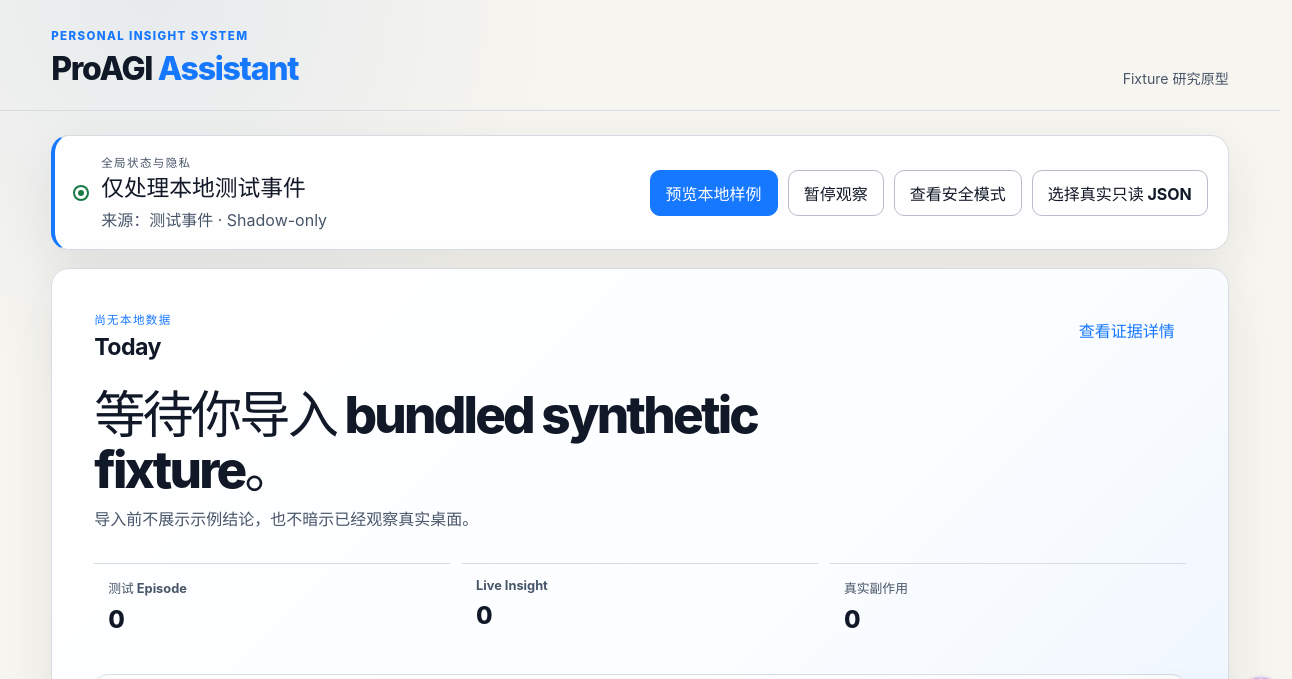
Test: runnable Insight Loop UI › opens mandatory recovery after an indeterminate correction failure
Click the button "预览本地样例": [714, 192] box top-left (650, 170), bottom-right (778, 216)
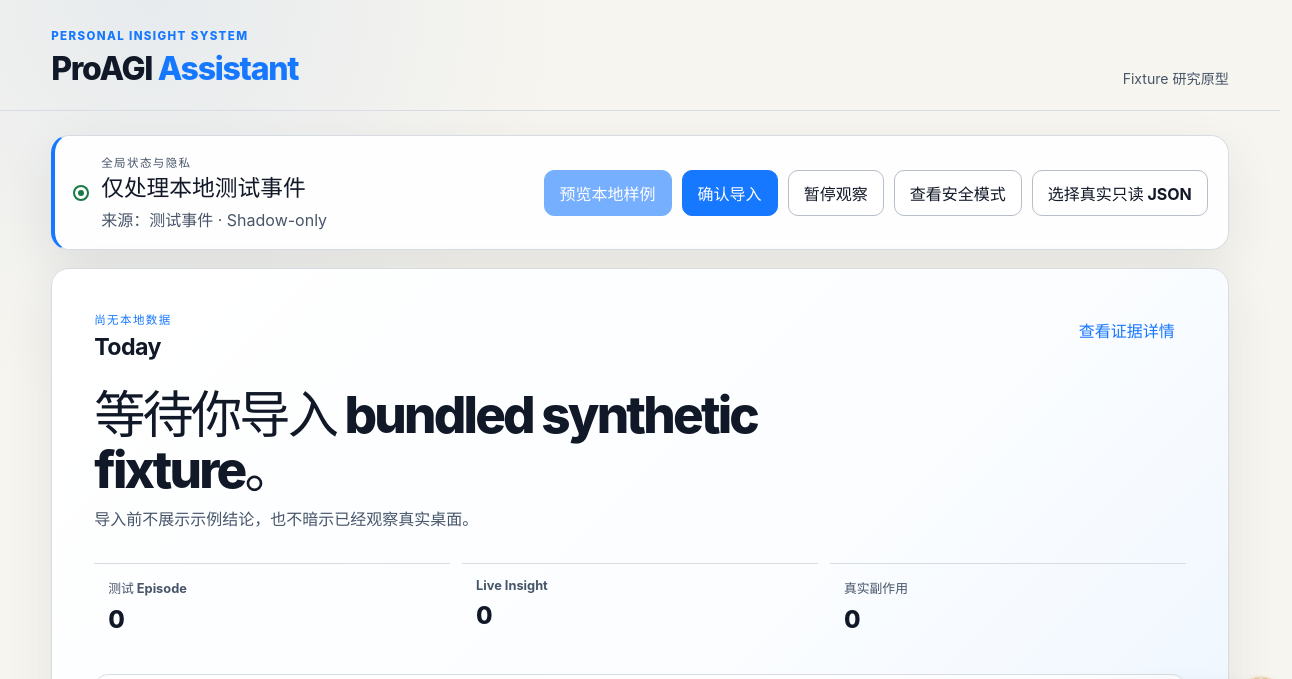
Now the button "确认导入" is shown
Click the button "确认导入": [730, 192] box top-left (682, 170), bottom-right (778, 216)
(page scrolled)
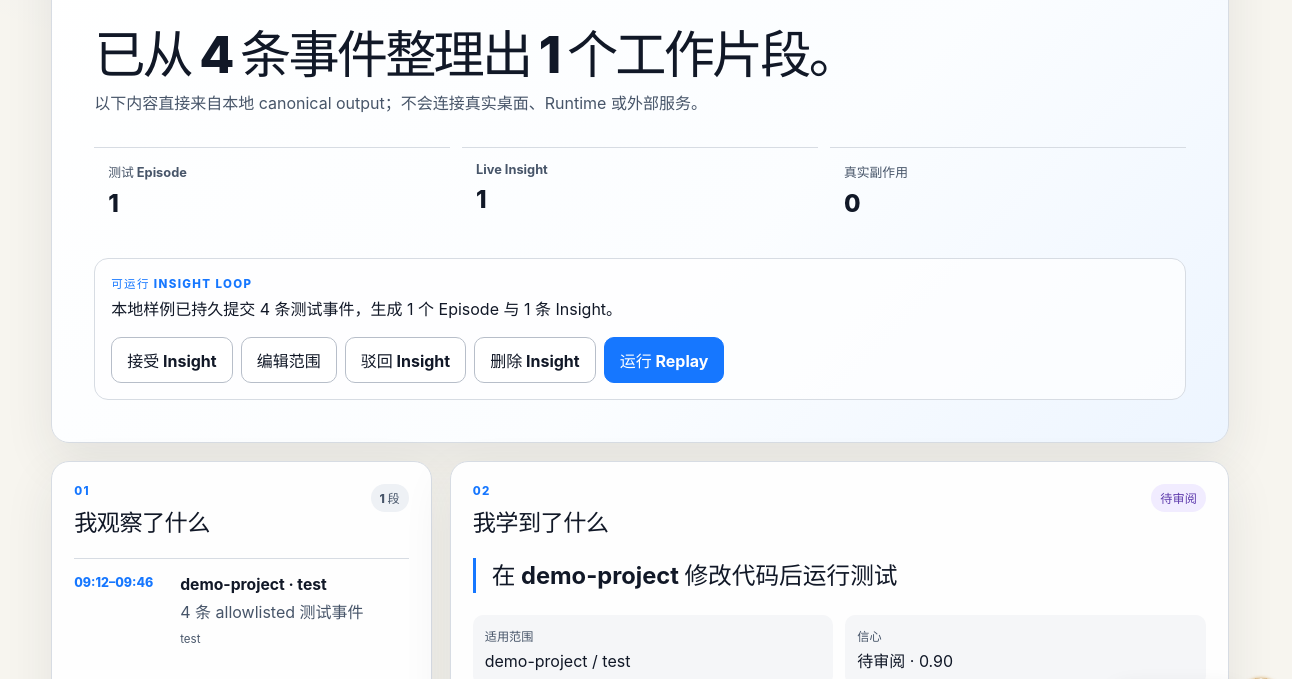
Now the text "本地样例已持久提交 4 条测试事件，生成 1 个 Episode 与 1 条 Insight。" is shown, box top-left (111, 299), bottom-right (622, 319)
Click the button "接受 Insight": [172, 360] box top-left (111, 337), bottom-right (233, 383)
(page scrolled)
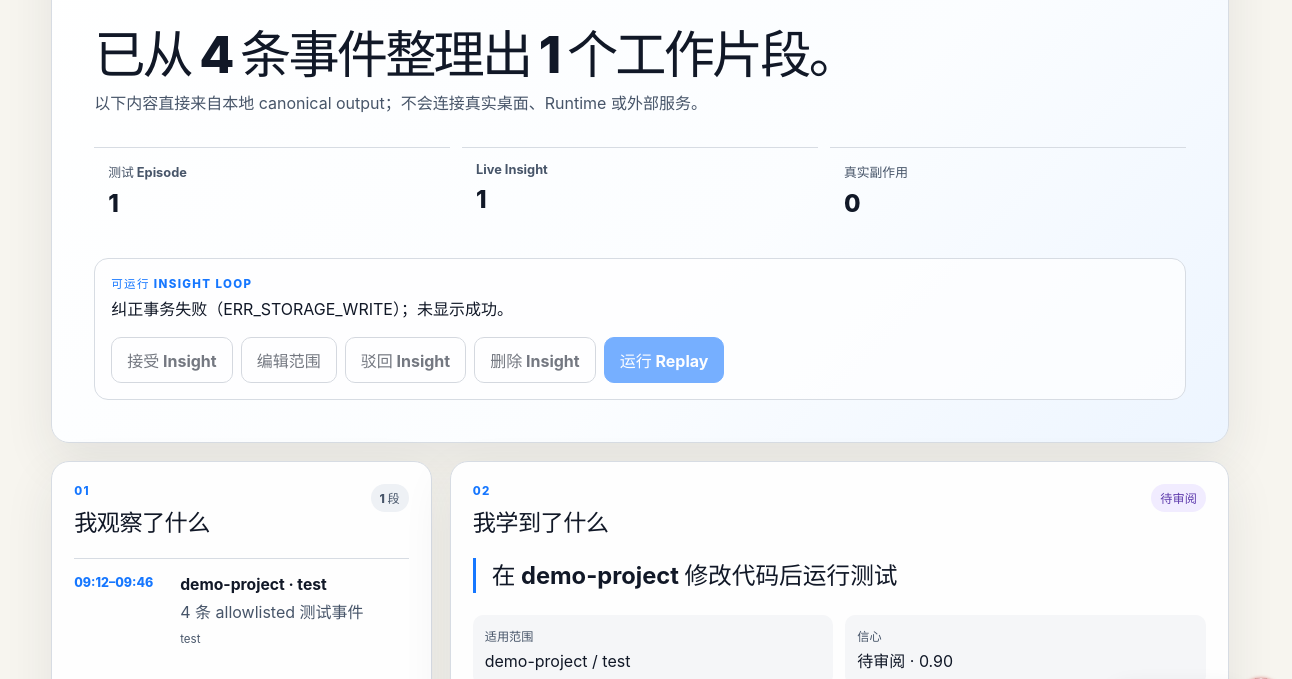
Now the text "纠正事务失败（ERR_STORAGE_WRITE）；未显示成功。" is shown, box top-left (111, 299), bottom-right (513, 319)
Now the button "接受 Insight" is disabled, box top-left (111, 337), bottom-right (233, 383)
